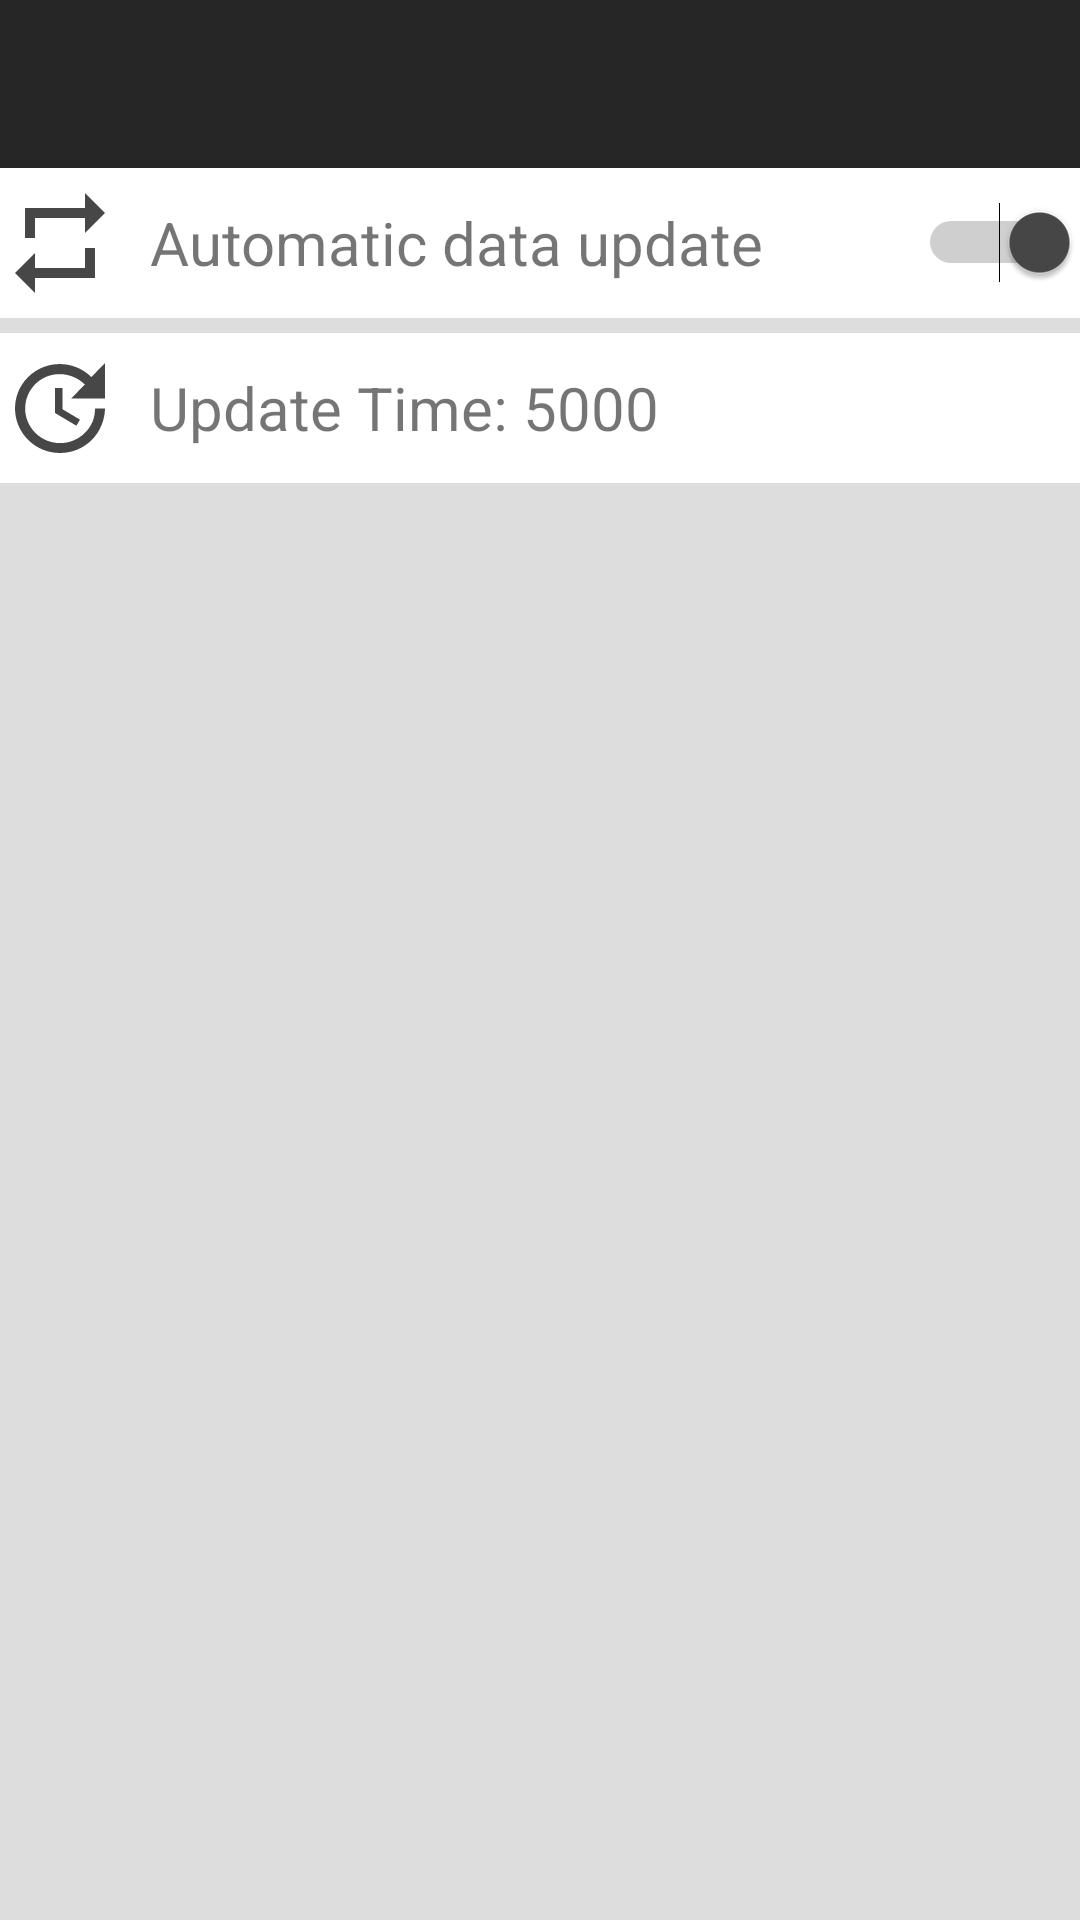

Named icons in this screenshot (1080 × 1920) and their centers, (x,y):
repeat: (60,243)
